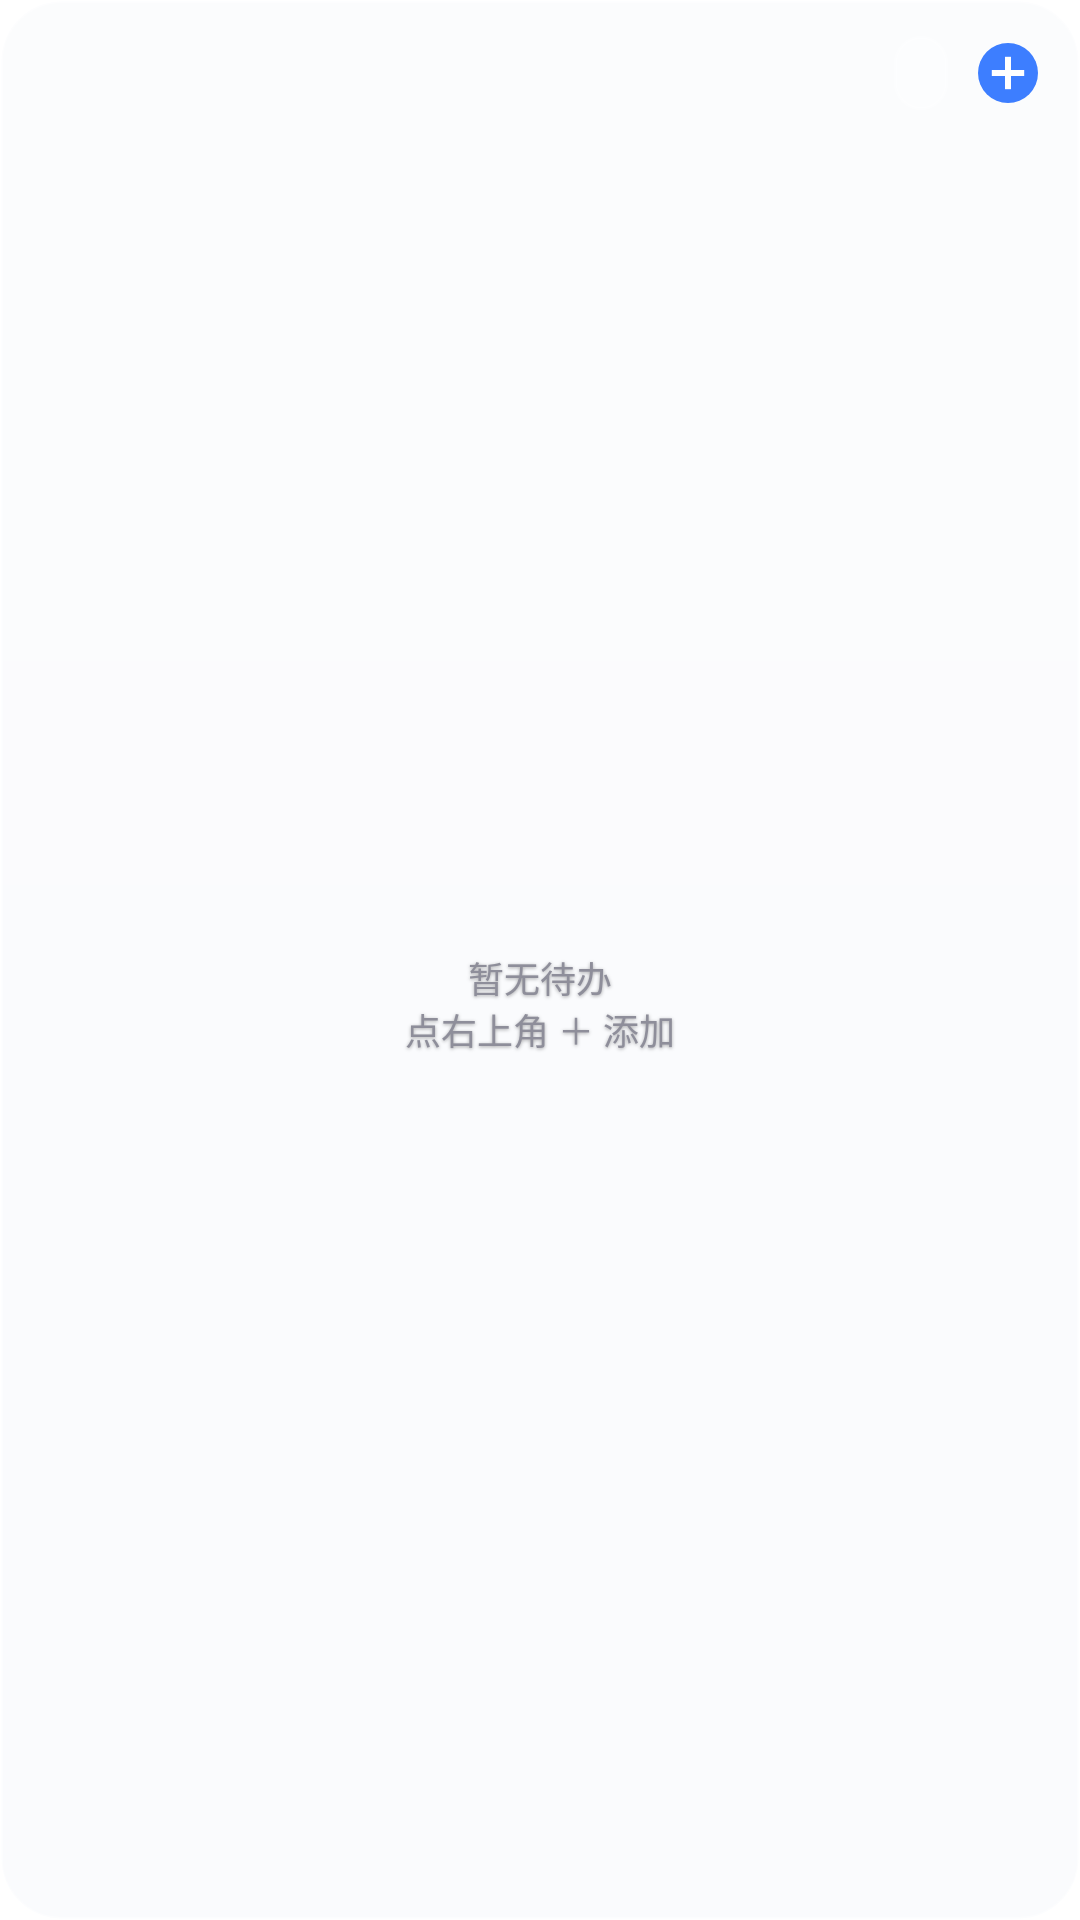

Icons on this 1080*1920 Android screen, each with its box as box(x1, y1, x2, y2):
快速添加待办: box(978, 43, 1038, 103)
